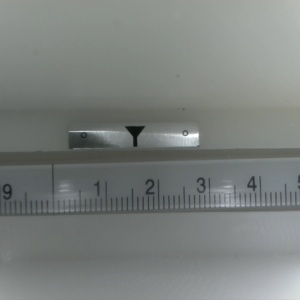1: (93, 181, 100, 196)
2: (144, 178, 154, 195)
3: (195, 177, 205, 192)
4: (245, 177, 256, 191)
9: (2, 184, 12, 199)
finger: (123, 126, 145, 149)
